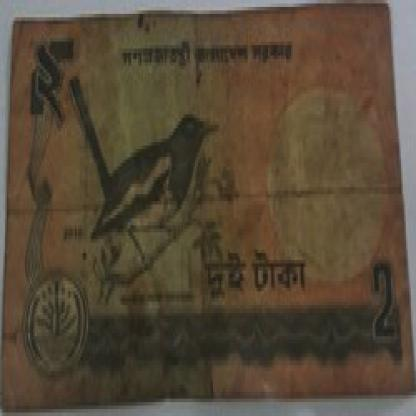two taka: (193, 236, 316, 312), (24, 35, 74, 121)
